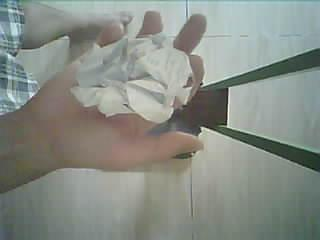paper: (71, 33, 192, 123)
